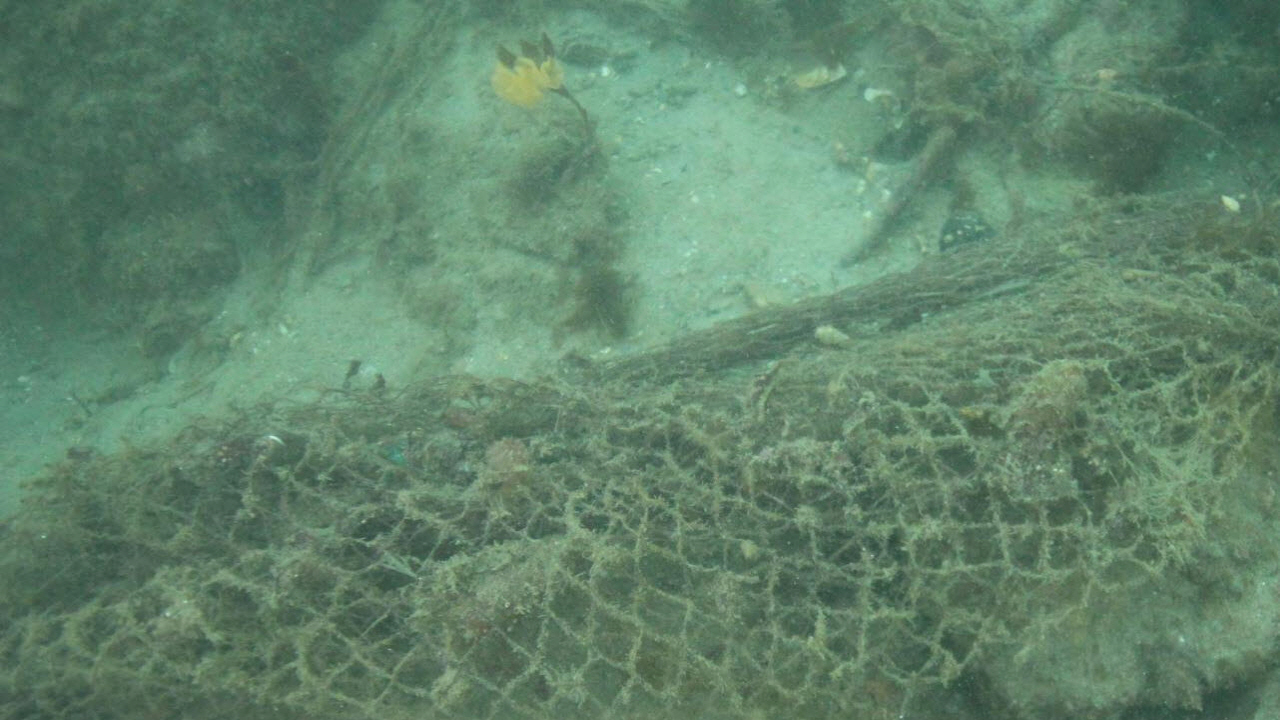fish net: (0, 188, 1280, 720)
